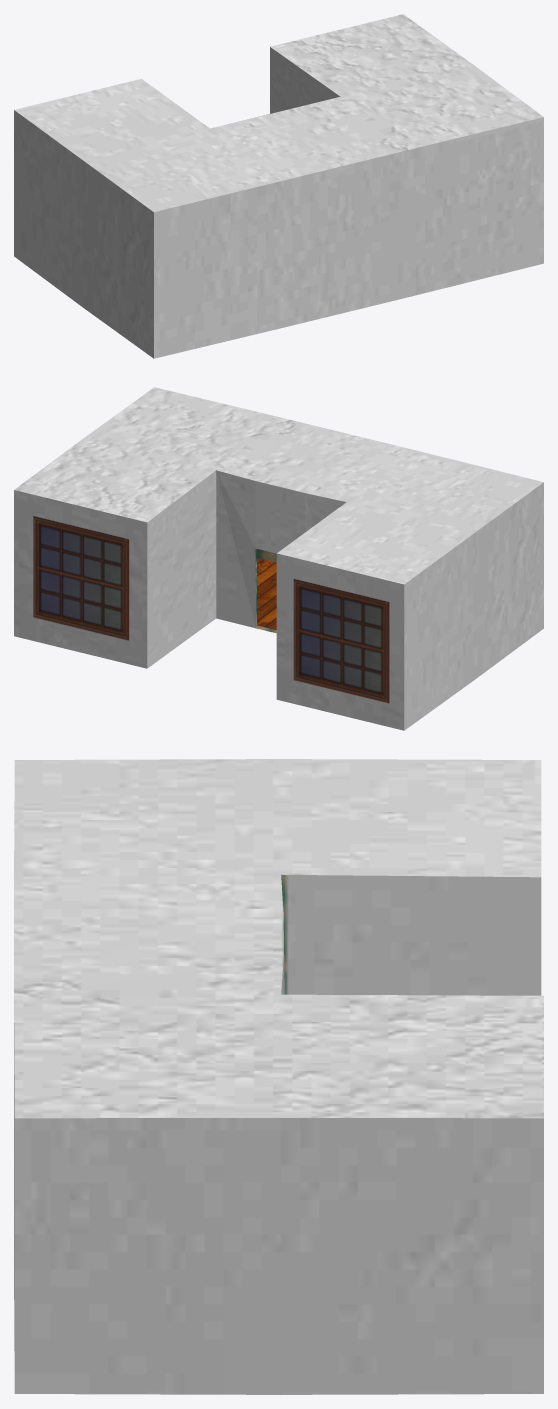
File: house2.FBX
3 renders of one model, top to bottom at view 1: azimuth 30°, elevation 25°; view 2: azimuth 150°, elevation 25°; view 3: azimuth 270°, elevation 25°, orthographic. The views are drawn at different scales.
Parts seen in each view (by area): view 1: Box001; view 2: Box001; view 3: Box001.
Boxes of the visible parts, x1,y1,x2,y2 form: Box001: [14, 14, 543, 358]; Box001: [14, 387, 543, 730]; Box001: [14, 759, 543, 1394].
Size of the model in its own units: 265 by 96.25 by 166.
Materials: 1 (1 with a texture image).
